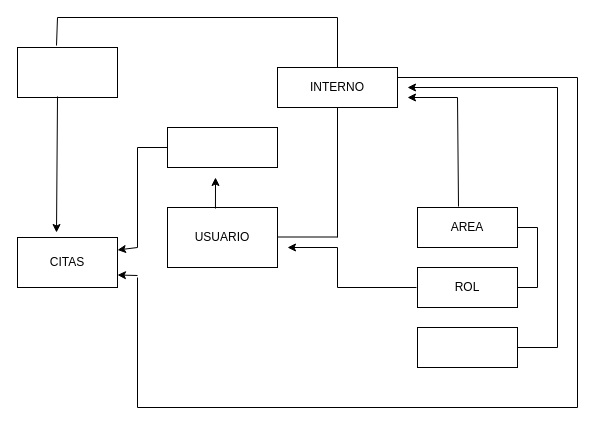
This 596x426 diagram has some shape labels left out. Here are the shapes that lost their labels. From the top down, the centre of each, then its label:
At [67,72]: "HORARIO".
At [222,147]: "VISITANTE".
At [467,347]: "STATUS".
